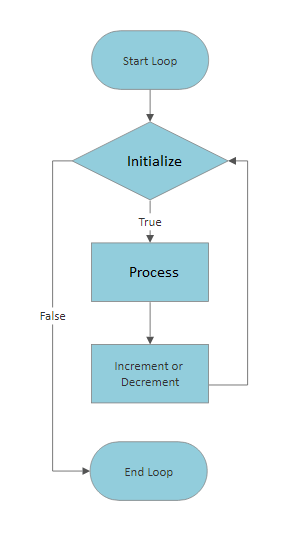arrow: (49, 158, 92, 476), (207, 156, 252, 390), (143, 87, 157, 124), (146, 301, 156, 348), (145, 198, 155, 243)
decision: (70, 121, 235, 202)
process: (88, 237, 211, 305), (88, 339, 212, 405)
terminator: (88, 28, 212, 93), (87, 439, 209, 503)
text: (111, 359, 183, 387), (125, 263, 180, 281), (121, 51, 179, 67), (124, 152, 182, 167), (122, 465, 175, 480), (38, 309, 67, 323), (136, 214, 164, 228)
